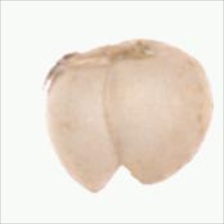L3: (88, 159, 156, 193)
L4: (44, 40, 214, 194)
